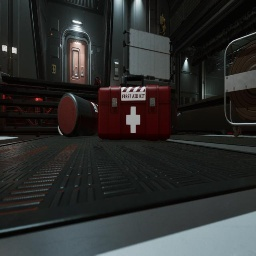0: (58, 124, 64, 135), (96, 135, 98, 135)
EmergencyPhone ,: (51, 62, 56, 74)
FirstAidBox ,: (97, 74, 171, 141)
NitrogenTank ,: (57, 93, 98, 138), (94, 77, 101, 86)
SafetySwitchPanel ,: (113, 59, 120, 81)
